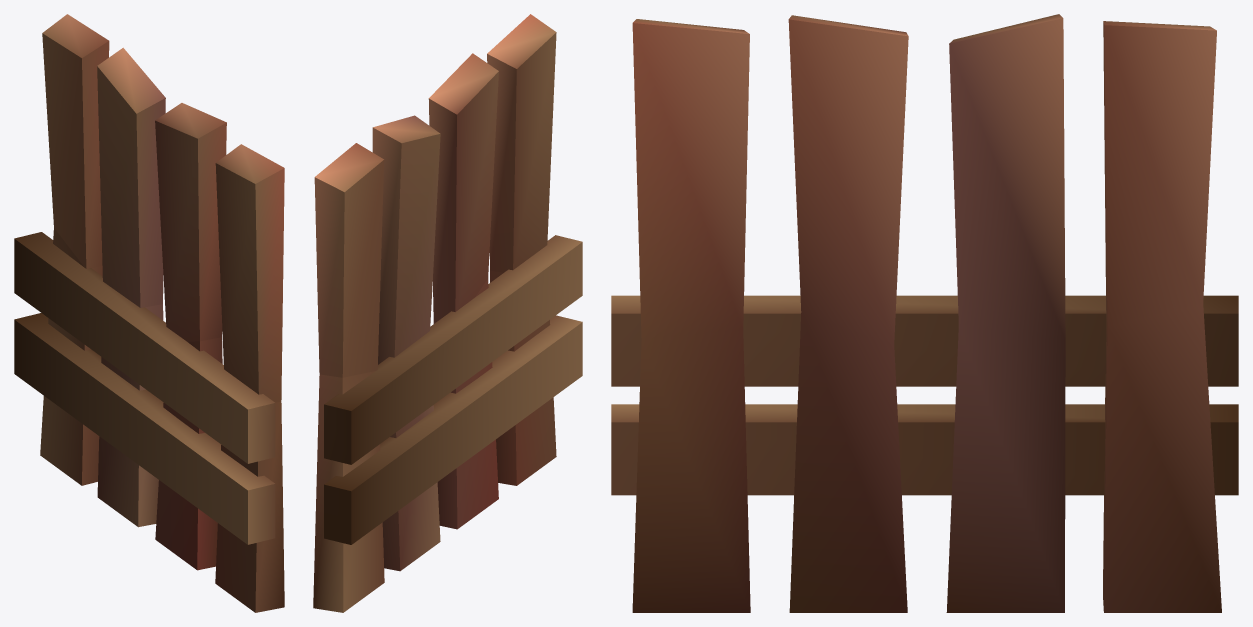
Rendered from Fence.fbx.
3 renders of one model, left to right at view 1: azimuth 30°, elevation 25°; view 2: azimuth 150°, elevation 25°; view 3: azimuth 270°, elevation 25°, orthographic. The views are drawn at different scales.
Parts seen in each view (by area): view 1: Cube; view 2: Cube; view 3: Cube.
Boxes of the visible parts, x1,y1,x2,y2 form: Cube: (14,14,284,612); Cube: (313,14,582,612); Cube: (611,14,1238,612).
Size of the model in its own units: 27.72 by 258 by 247.
